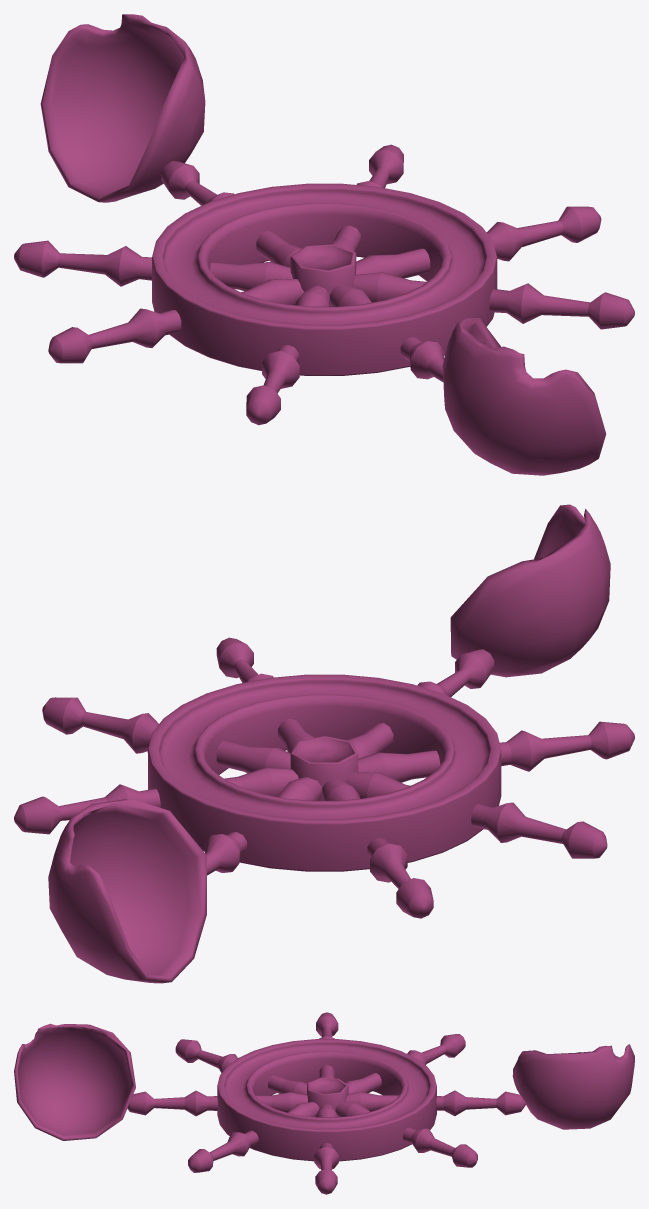
The model's file is SM_Gouvernaille.fbx.
3 views of the same model, one above another, from view 1: azimuth 30°, elevation 25°; view 2: azimuth 150°, elevation 25°; view 3: azimuth 270°, elevation 25° (orthographic). The views are drawn at different scales.
Parts seen in each view (by area): view 1: pCylinder2, gouver1_l1, gouver1_l, pCylinder6, pCylinder5, pCylinder3, pCylinder4, pCylinder3.004, pCylinder1, pCylinder3.002, pCylinder3.001, pCylinder3.003; view 2: pCylinder2, gouver1_l1, gouver1_l, pCylinder3.004, pCylinder4, pCylinder3, pCylinder3.003, pCylinder6, pCylinder3.001, pCylinder1, pCylinder3.002, pCylinder5; view 3: pCylinder2, gouver1_l, gouver1_l1, pCylinder3.001, pCylinder3.002, pCylinder3.003, pCylinder5, pCylinder3.004, pCylinder6, pCylinder4, pCylinder1, pCylinder3.
Part boxes in pixels (box(x1,y1,x2,y2)): pCylinder2: box(152, 183, 497, 375); gouver1_l1: box(40, 14, 205, 202); gouver1_l: box(442, 318, 606, 475); pCylinder6: box(14, 240, 292, 291); pCylinder5: box(353, 272, 634, 329); pCylinder3: box(48, 279, 303, 363); pCylinder4: box(356, 206, 601, 278); pCylinder3.004: box(246, 285, 329, 425); pCylinder1: box(290, 244, 356, 306); pCylinder3.002: box(161, 161, 301, 267); pCylinder3.001: box(330, 284, 444, 381); pCylinder3.003: box(330, 144, 403, 252); pCylinder2: box(147, 674, 501, 871); gouver1_l1: box(48, 799, 206, 983); gouver1_l: box(450, 504, 610, 677); pCylinder3.004: box(358, 721, 634, 782); pCylinder4: box(42, 697, 290, 773); pCylinder3: box(345, 772, 607, 858); pCylinder3.003: box(14, 767, 298, 834); pCylinder6: box(322, 779, 433, 918); pCylinder3.001: box(346, 649, 494, 758); pCylinder1: box(290, 736, 358, 800); pCylinder3.002: box(205, 777, 322, 875); pCylinder5: box(216, 637, 314, 753); pCylinder2: box(217, 1039, 436, 1161); gouver1_l: box(14, 1023, 135, 1140); gouver1_l1: box(512, 1044, 634, 1129); pCylinder3.001: box(127, 1090, 307, 1116); pCylinder3.002: box(345, 1090, 525, 1116); pCylinder3.003: box(335, 1101, 477, 1167); pCylinder5: box(188, 1102, 319, 1172); pCylinder3.004: box(175, 1039, 306, 1094); pCylinder6: box(345, 1034, 465, 1093); pCylinder4: box(314, 1104, 338, 1194); pCylinder1: box(307, 1077, 348, 1117); pCylinder3: box(316, 1012, 338, 1078).
Size of the model in its own units: 79.48 by 20.56 by 122.
